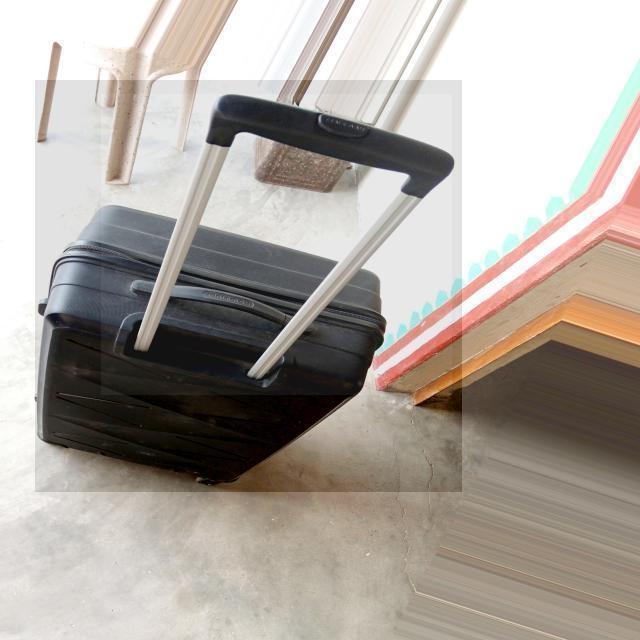Suitcase: (26, 83, 466, 497)
